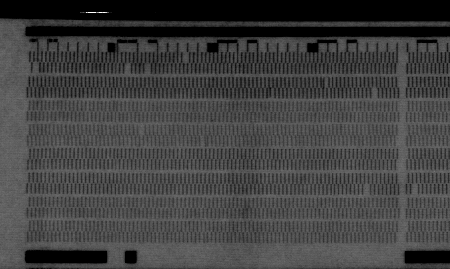Broken hole: (135, 123, 148, 137), (368, 86, 380, 101), (29, 62, 42, 75), (121, 62, 133, 76), (361, 183, 373, 197), (408, 183, 421, 195), (179, 53, 191, 65), (142, 63, 153, 76)
Oblique printing: (197, 135, 210, 149), (265, 86, 277, 99), (319, 77, 330, 91)
